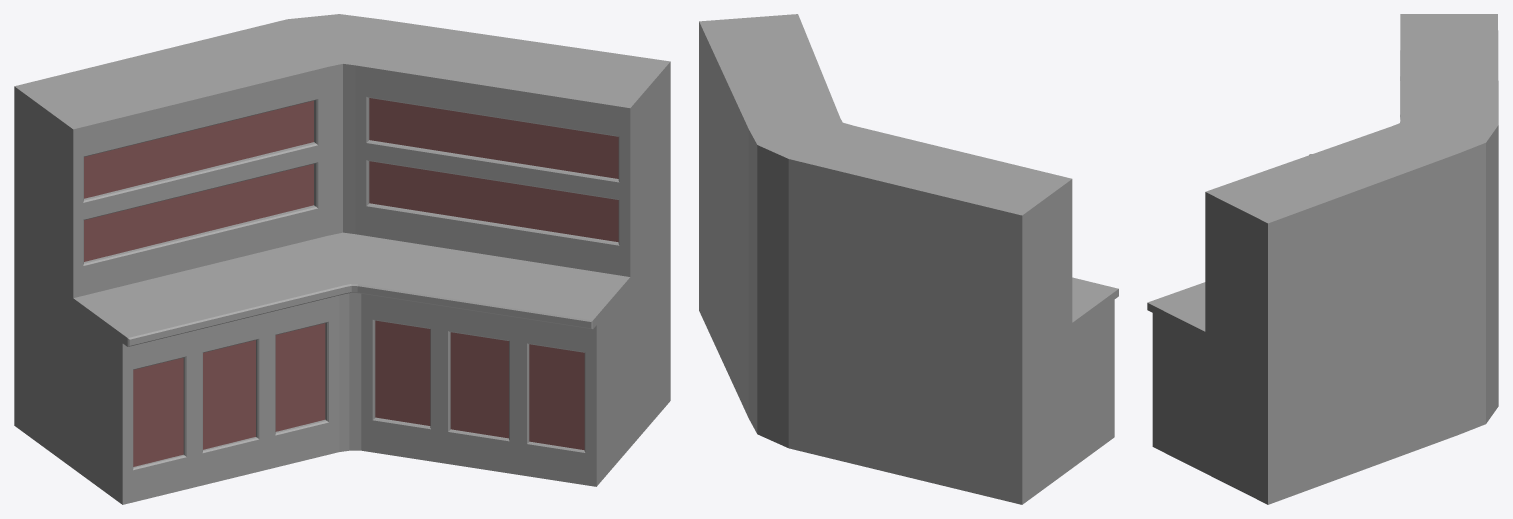
The model's file is GeneralBuilding_LooseCurve.fbx.
3 views of the same model, side by side, from view 1: azimuth 30°, elevation 25°; view 2: azimuth 150°, elevation 25°; view 3: azimuth 270°, elevation 25° (orthographic). The views are drawn at different scales.
Parts seen in each view (by area): view 1: pCube40; view 2: pCube40; view 3: pCube40.
Part boxes in pixels (box(x1,y1,x2,y2)): pCube40: box(14, 14, 670, 504); pCube40: box(699, 14, 1118, 504); pCube40: box(1147, 14, 1498, 504).
Size of the model in its own units: 19.05 by 11.94 by 13.51.
